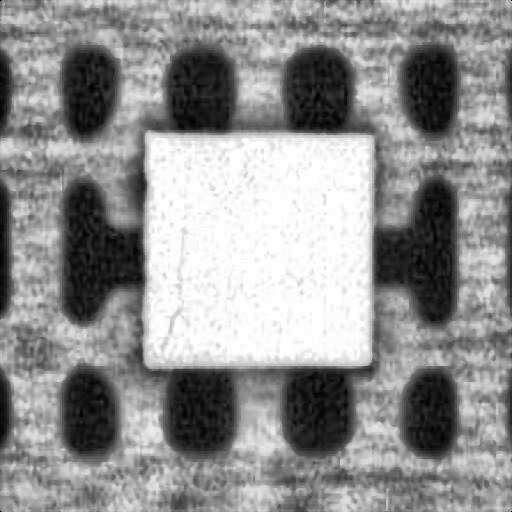DIE_CRACK: (156, 220, 184, 350)
